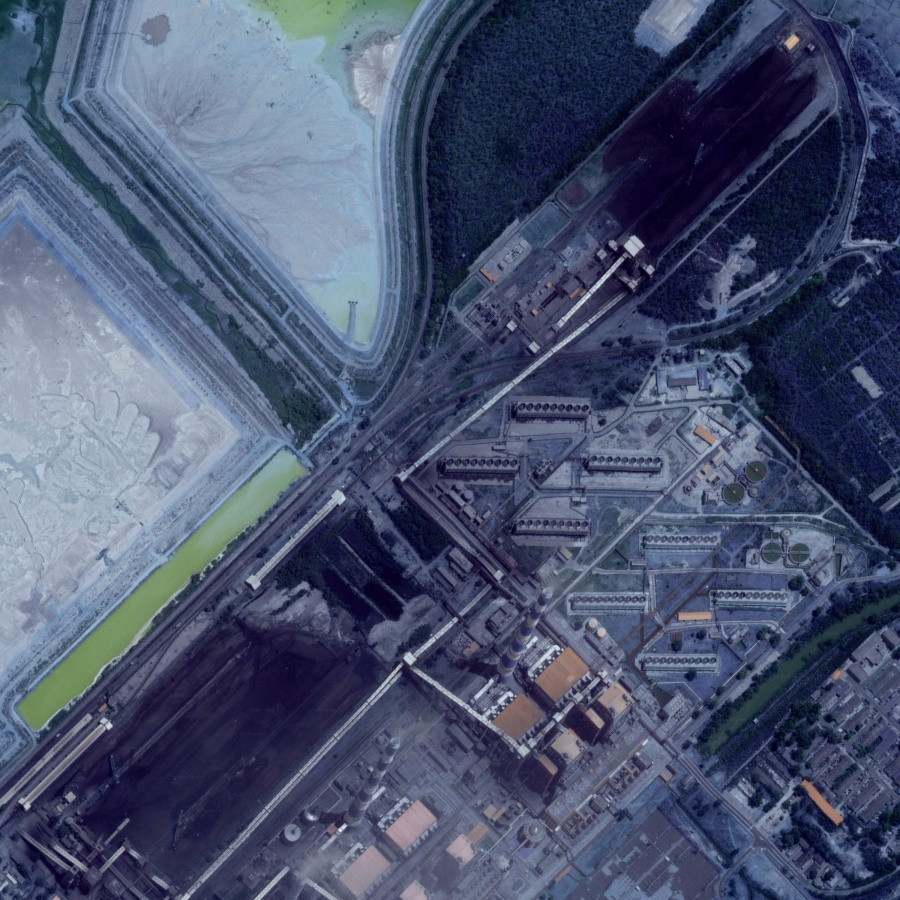PowerPlant: (556, 14, 835, 296)
